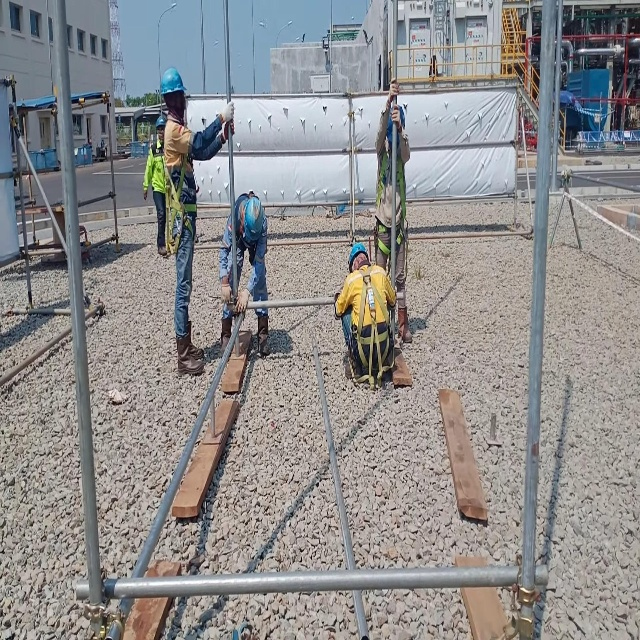Arnes_seguridad: (350, 262, 395, 391), (164, 151, 199, 254), (373, 151, 407, 257)
